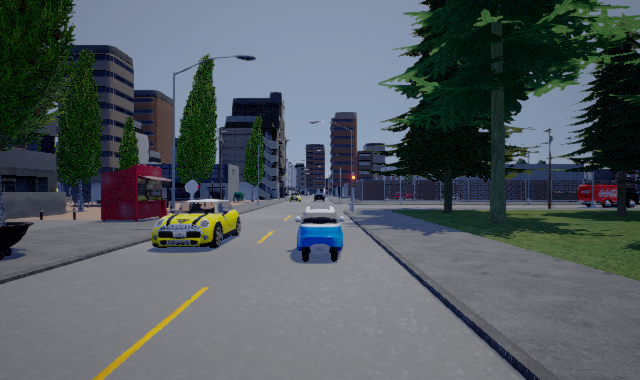traffic_light: (351, 173, 355, 189)
vehicle: (152, 199, 241, 248), (295, 211, 345, 262), (578, 181, 640, 208), (313, 190, 326, 202), (289, 192, 301, 202)
